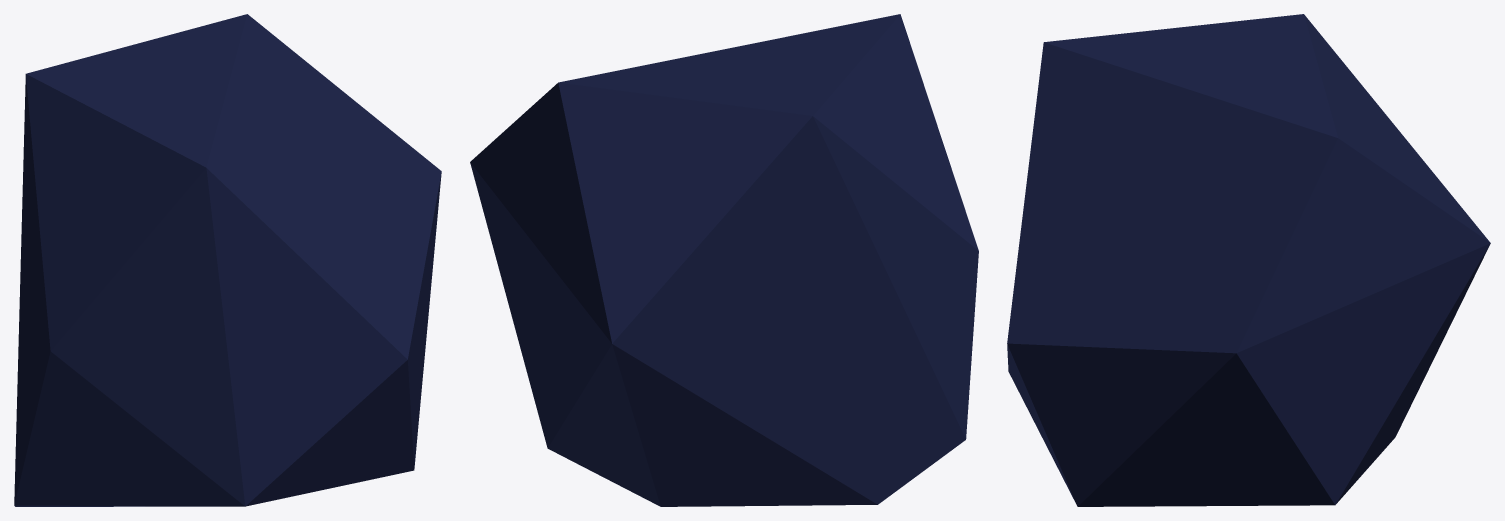
The model's file is Cave_stone_12.glb.
The picture shows the model from 3 angles, left to right: view 1: azimuth 30°, elevation 25°; view 2: azimuth 150°, elevation 25°; view 3: azimuth 270°, elevation 25°; orthographic projection. The views are drawn at different scales.
Visible parts, largest first — view 1: Cave_stone_12; view 2: Cave_stone_12; view 3: Cave_stone_12.
Part boxes in pixels (x1=…): Cave_stone_12: x1=14, y1=14, x2=441, y2=506; Cave_stone_12: x1=470, y1=14, x2=978, y2=506; Cave_stone_12: x1=1007, y1=14, x2=1490, y2=506.
Size of the model in its own units: 0.6581 by 0.5468 by 0.6142.
